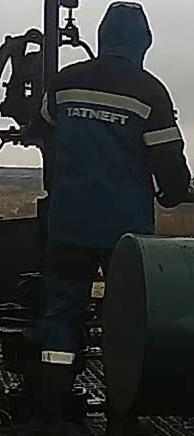vest: (42, 56, 189, 251)
